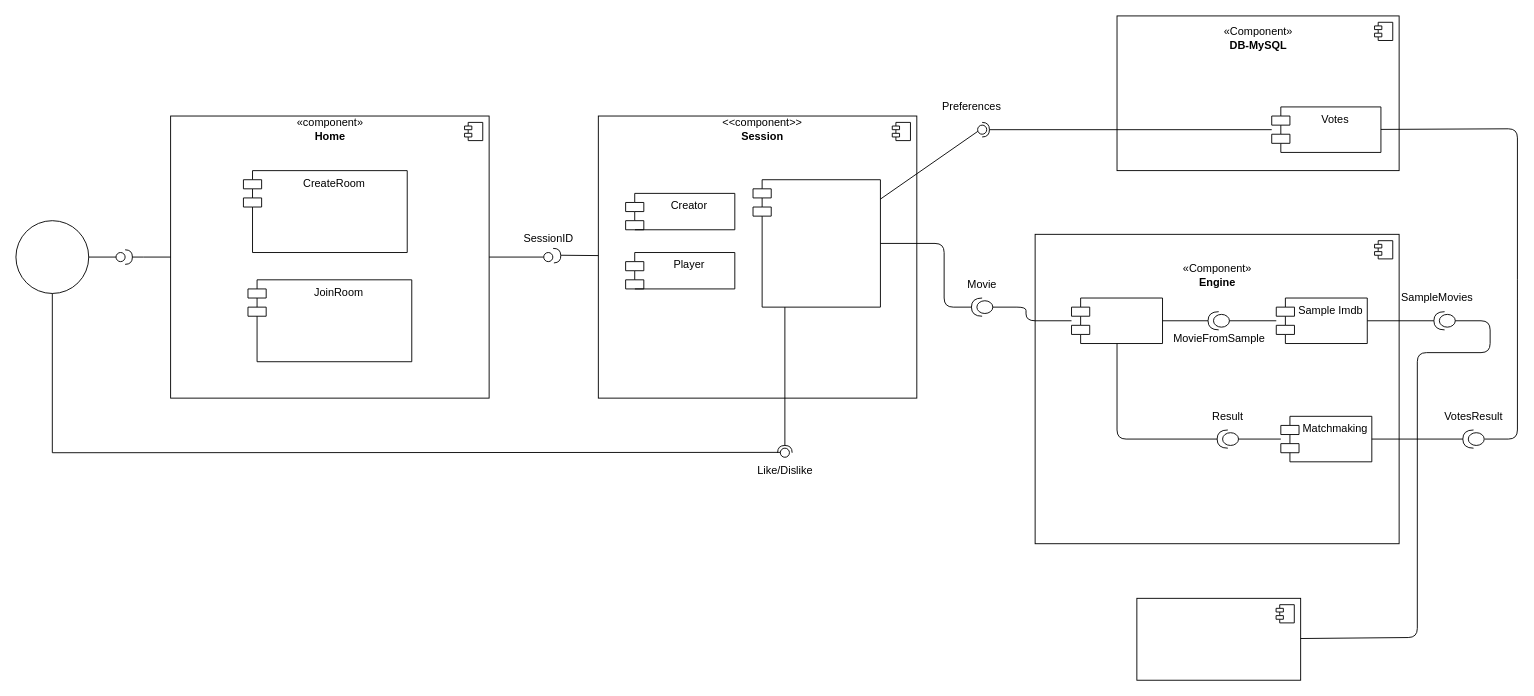
This 1534x696 diagram has some shape labels left out. The shapes that lost their labels are listed below. From the top down, each one's centre as x and y in pixels, then its label:
point (52, 256): User
point (816, 243): Session Manager
point (1117, 320): MoviePrompt
point (1218, 638): «Component» ImDB API
